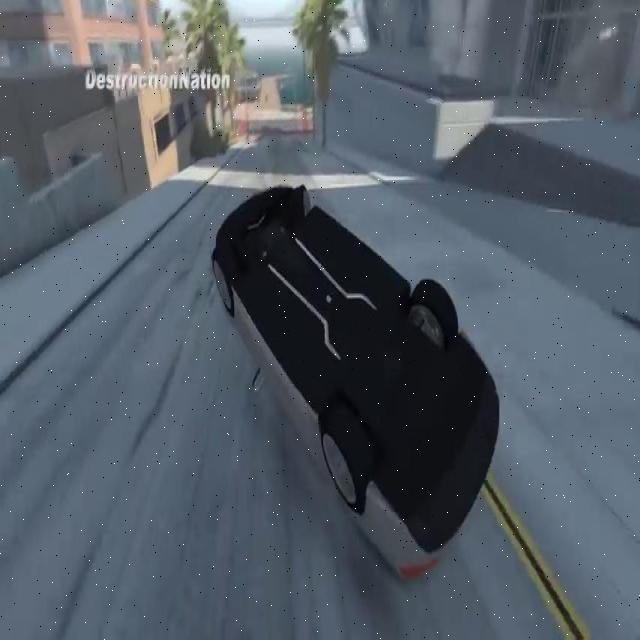severe: (206, 169, 505, 591)
